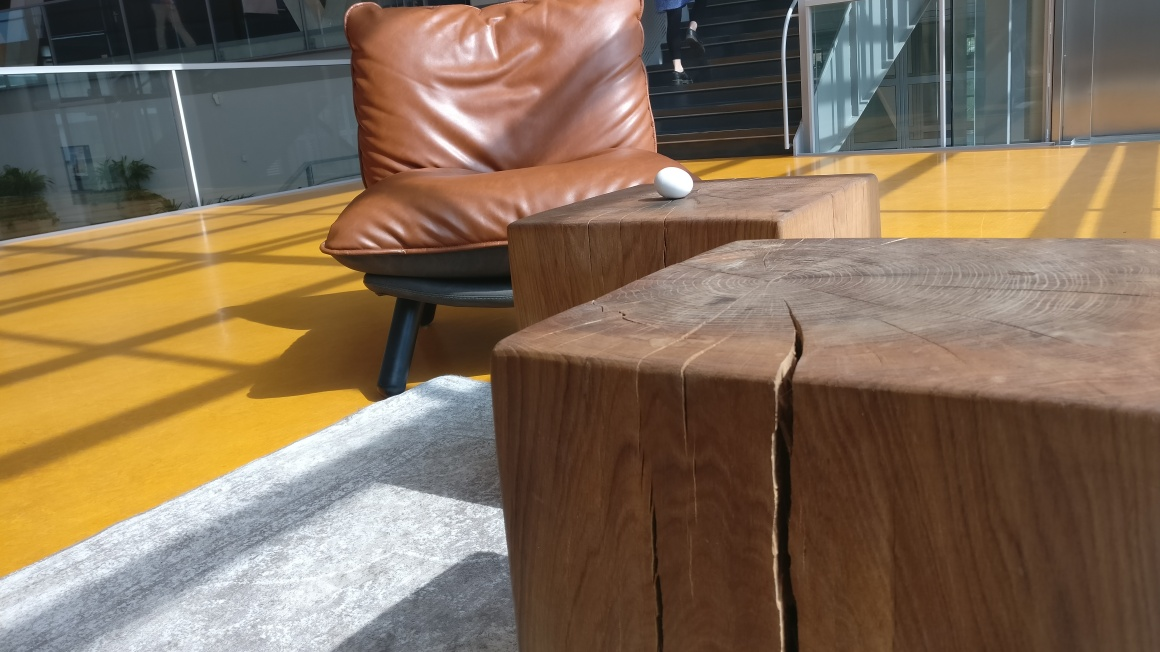egg: (653, 166, 693, 200)
